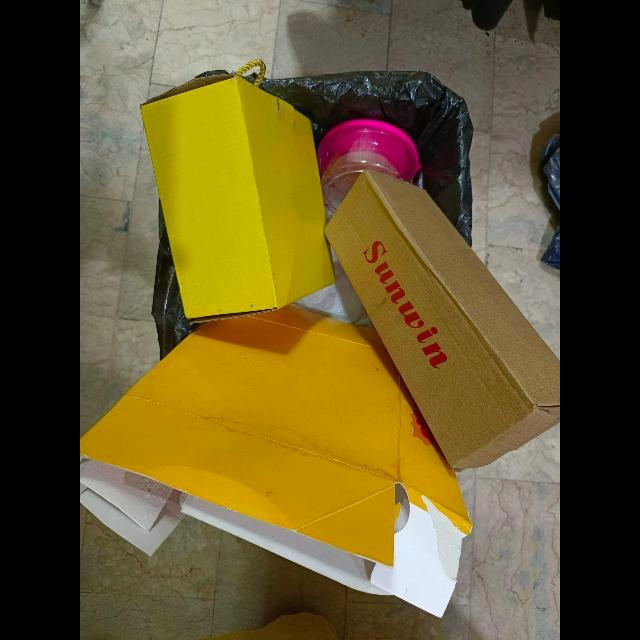cardboard: (80, 304, 472, 619), (323, 170, 560, 474), (139, 72, 337, 326)
glass_bottle: (317, 120, 423, 223)
